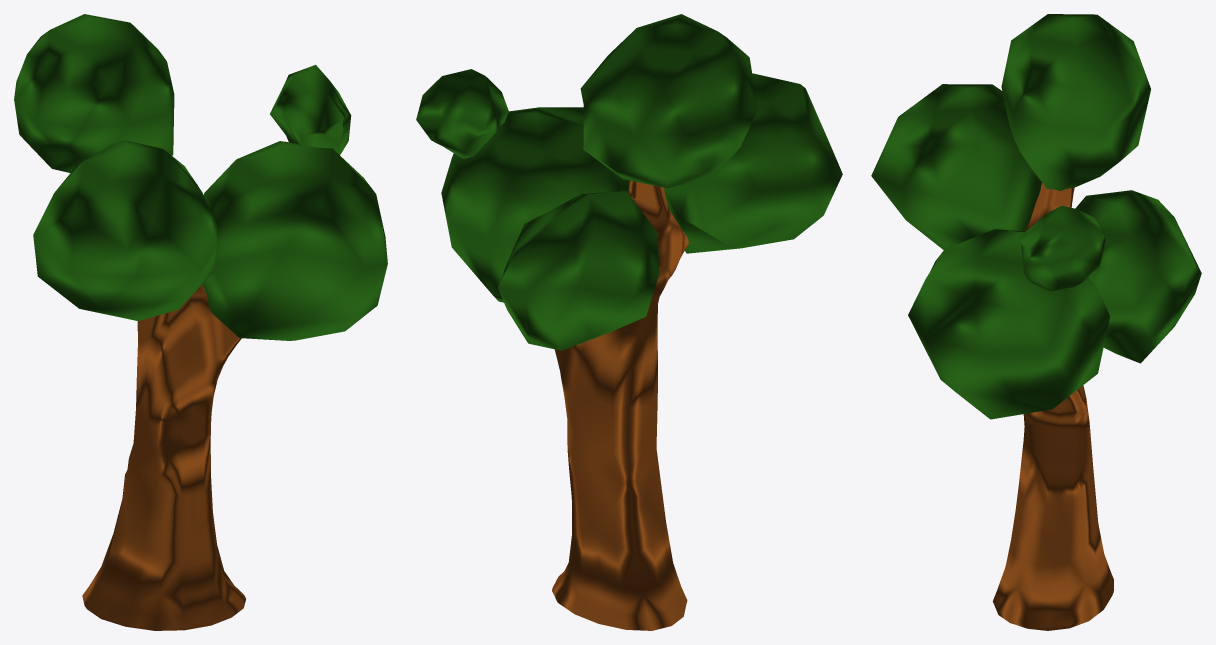
The model's file is Tree_2.obj.
3 views of the same model, side by side, from view 1: azimuth 30°, elevation 25°; view 2: azimuth 150°, elevation 25°; view 3: azimuth 270°, elevation 25° (orthographic). The views are drawn at different scales.
Visible parts, largest first — view 1: Tree_2, Leaves_3, Leaves_1, Leaves_2, Leaves_5; view 2: Tree_2, Leaves_2, Leaves_4, Leaves_1, Leaves_3, Leaves_5; view 3: Leaves_3, Tree_2, Leaves_2, Leaves_1, Leaves_4, Leaves_5.
Part boxes in pixels (box(x1,y1,x2,y2)): Tree_2: box(82, 284, 245, 630); Leaves_3: box(202, 141, 387, 340); Leaves_1: box(33, 140, 217, 320); Leaves_2: box(14, 14, 174, 172); Leaves_5: box(270, 65, 351, 154); Tree_2: box(552, 180, 688, 630); Leaves_2: box(580, 14, 757, 188); Leaves_4: box(498, 191, 658, 350); Leaves_1: box(664, 73, 842, 253); Leaves_3: box(441, 107, 629, 302); Leaves_5: box(416, 69, 508, 158); Leaves_3: box(908, 229, 1110, 419); Tree_2: box(992, 183, 1113, 630); Leaves_2: box(1001, 14, 1150, 191); Leaves_1: box(871, 84, 1041, 249); Leaves_4: box(1075, 190, 1201, 363); Leaves_5: box(1019, 205, 1105, 291).
Size of the model in its own units: 682 by 1104 by 597.
